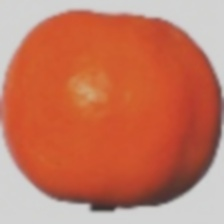tangerine: (0, 37, 199, 205)
